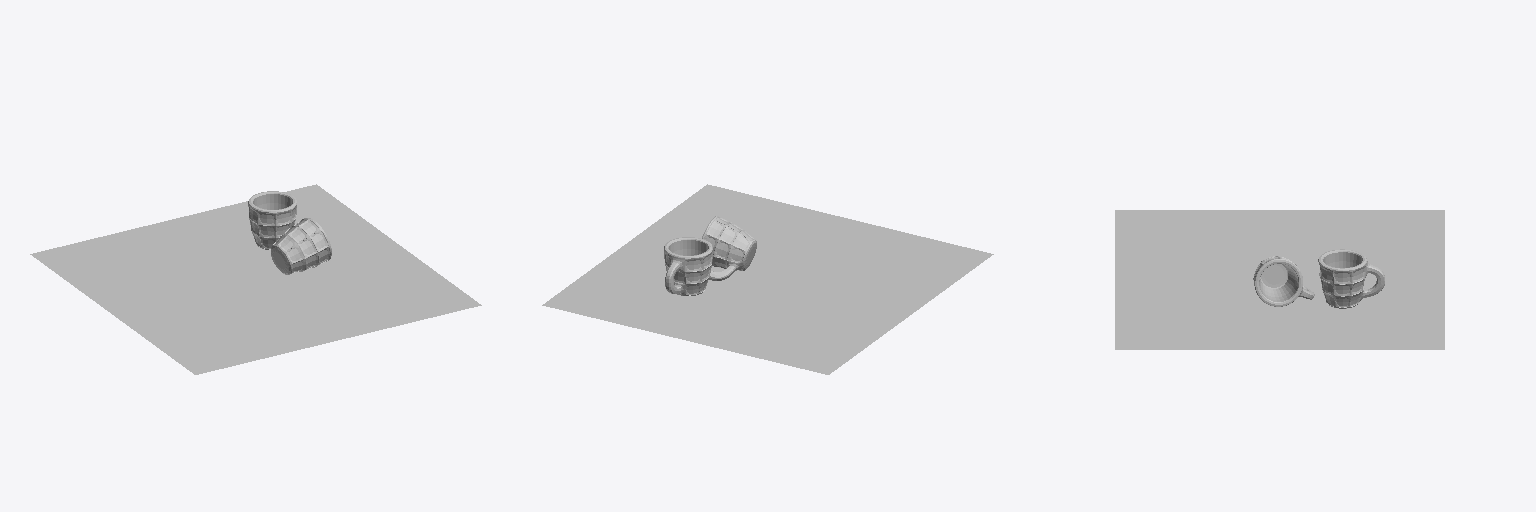
File: Mug 3.obj
3 views of the same model, side by side, from view 1: azimuth 30°, elevation 25°; view 2: azimuth 150°, elevation 25°; view 3: azimuth 270°, elevation 25° (orthographic).
Visible parts, largest first — view 1: Plane, Cylinder.001_Cylinder.002, Cylinder_Cylinder.001; view 2: Plane, Cylinder_Cylinder.001, Cylinder.001_Cylinder.002; view 3: Plane, Cylinder_Cylinder.001, Cylinder.001_Cylinder.002.
Part boxes in pixels (x1,y1,x2,y2): Plane: (30,184,481,374); Cylinder.001_Cylinder.002: (271,218,331,274); Cylinder_Cylinder.001: (248,191,296,249); Plane: (542,184,993,374); Cylinder_Cylinder.001: (664,237,712,295); Cylinder.001_Cylinder.002: (702,216,756,280); Plane: (1115,210,1444,349); Cylinder_Cylinder.001: (1318,249,1384,308); Cylinder.001_Cylinder.002: (1253,256,1314,306).
Size of the model in its own units: 18.63 by 2.96 by 18.63.